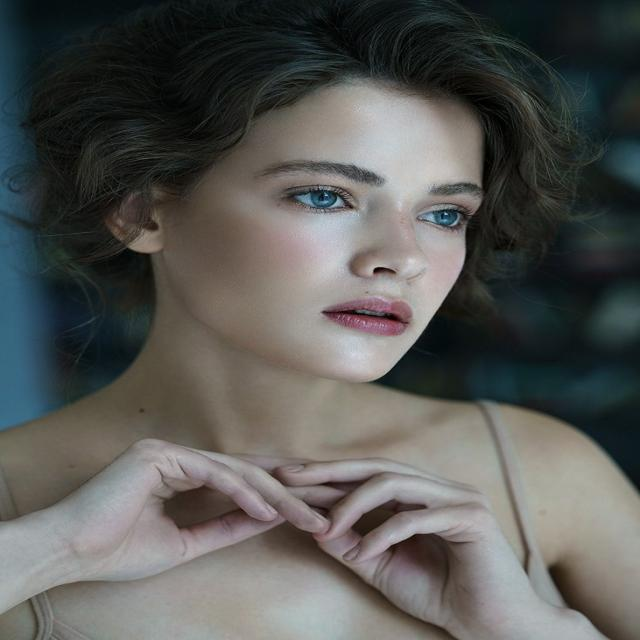earlobe: (128, 225, 165, 254)
eye: (284, 187, 359, 213), (417, 206, 472, 230)
nose: (354, 263, 442, 299)
wholeear: (98, 173, 166, 254)
